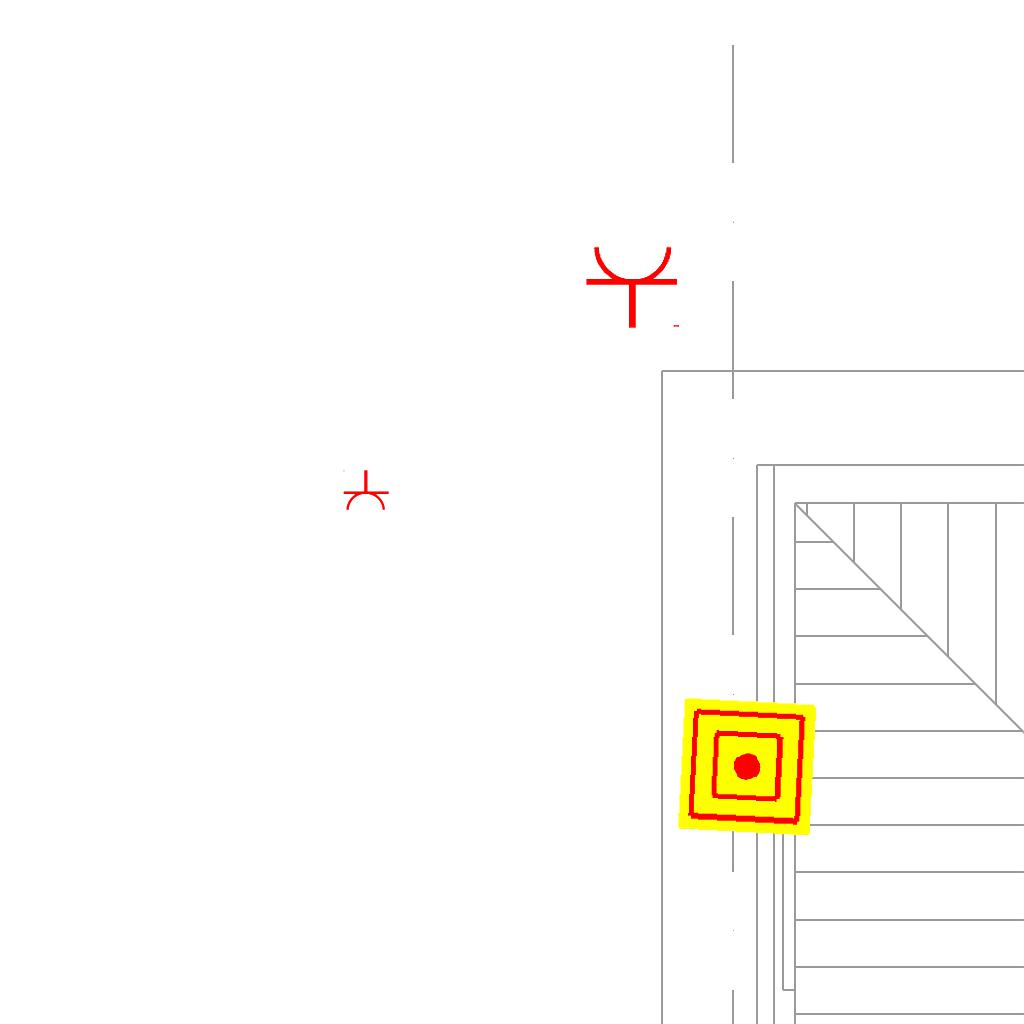NAM-Nichtautomatischer_Melder: (677, 697, 817, 837)
Schukosteckdose_einfach: (584, 243, 684, 330), (340, 469, 390, 512)
